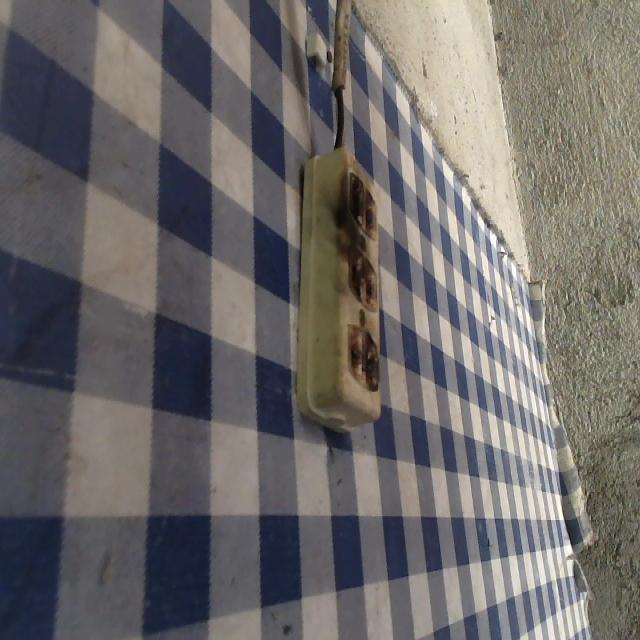-: (342, 164, 378, 244), (345, 320, 381, 396), (347, 245, 378, 312)
